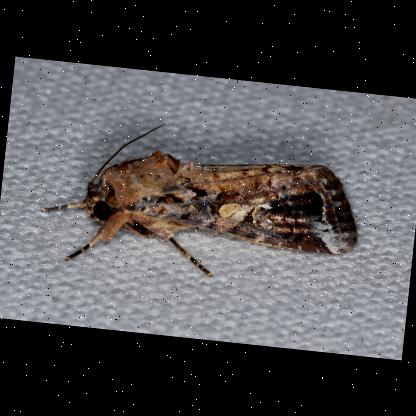Fall Armyworm Moth: (33, 108, 372, 294)
